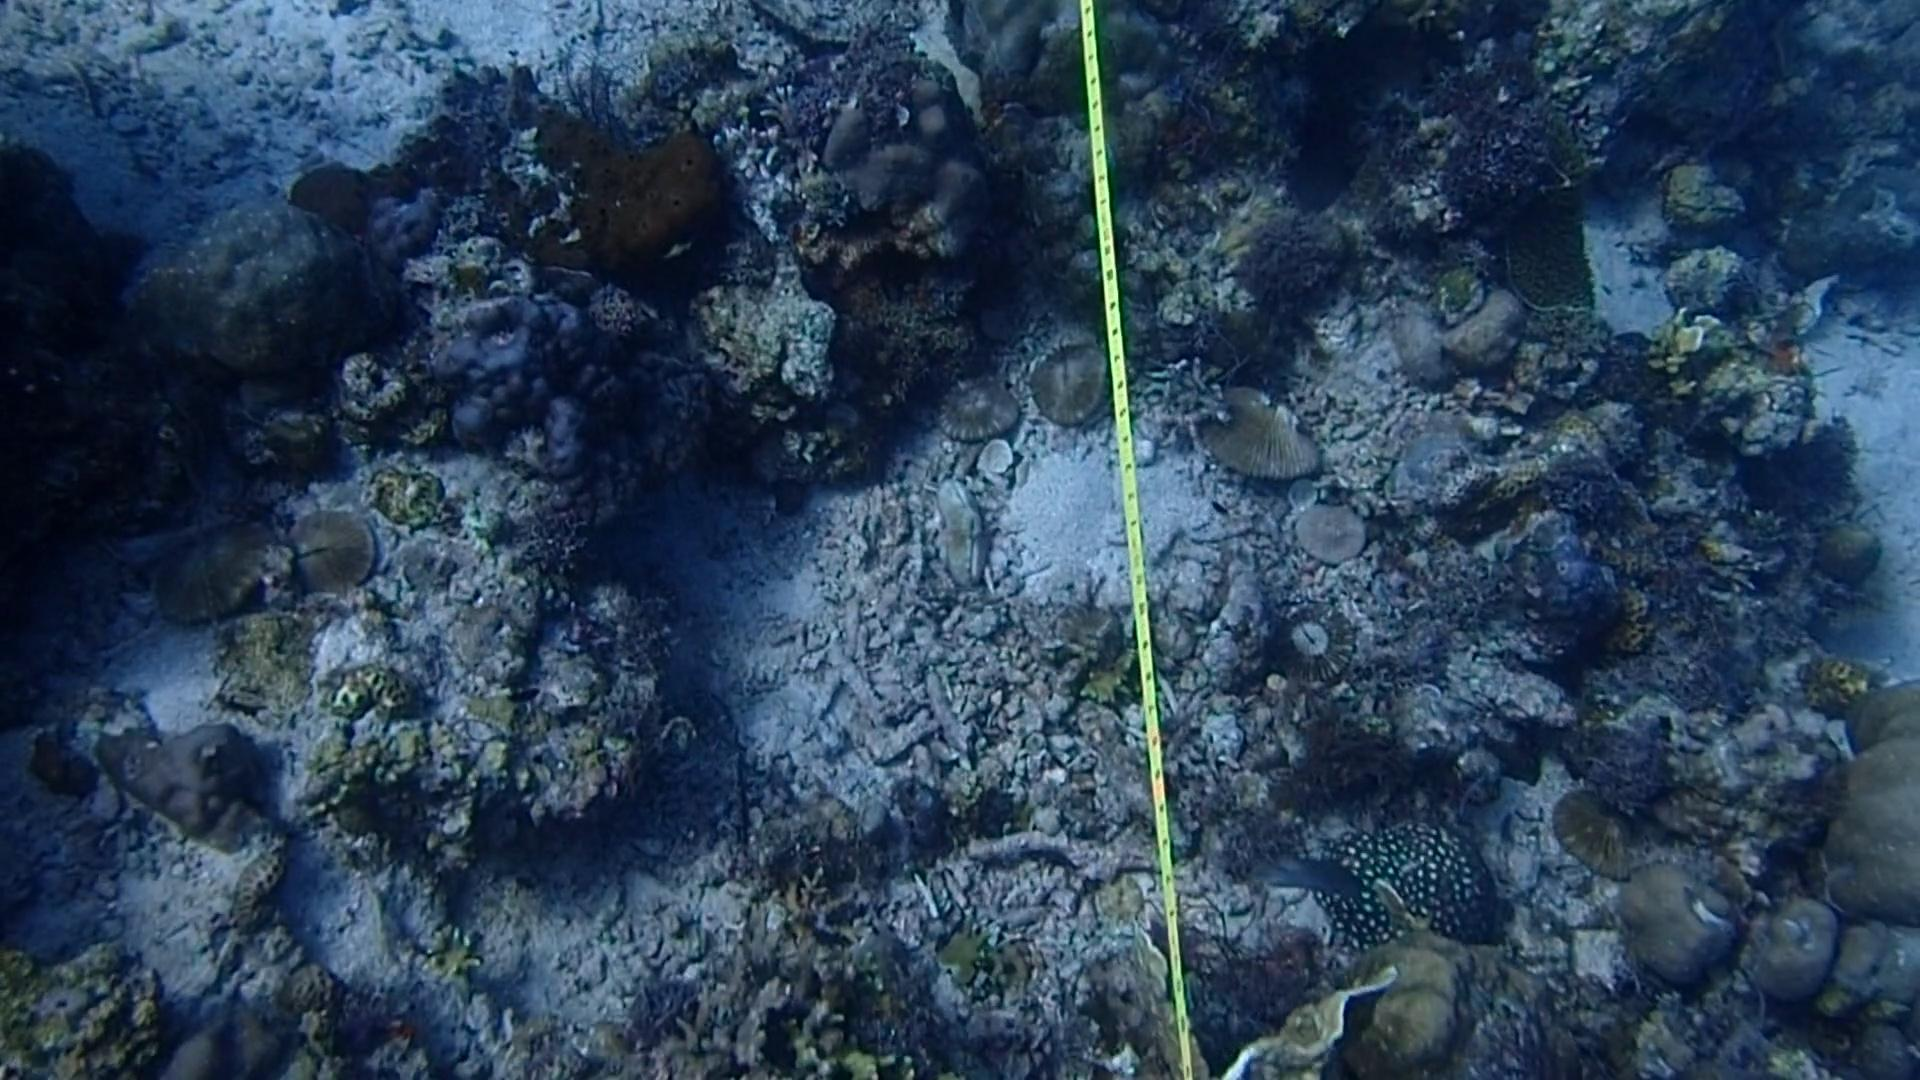Light Fish: (1250, 843, 1364, 909)
